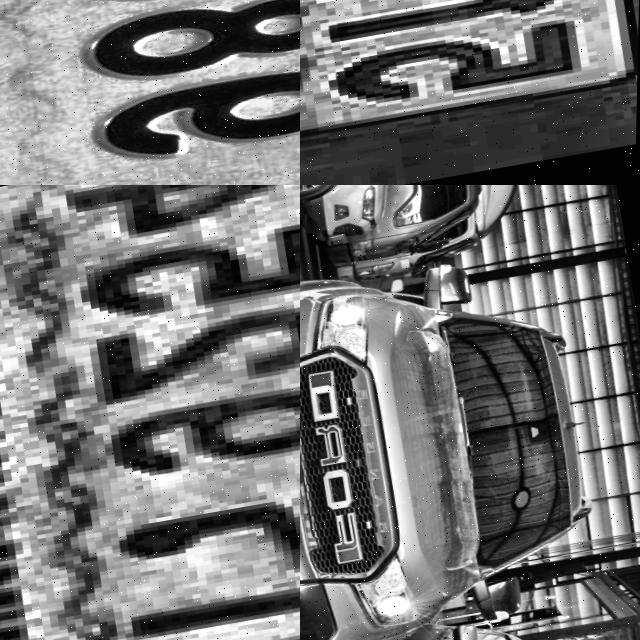license-plate: (0, 185, 300, 640), (300, 0, 640, 173), (0, 0, 300, 185)
